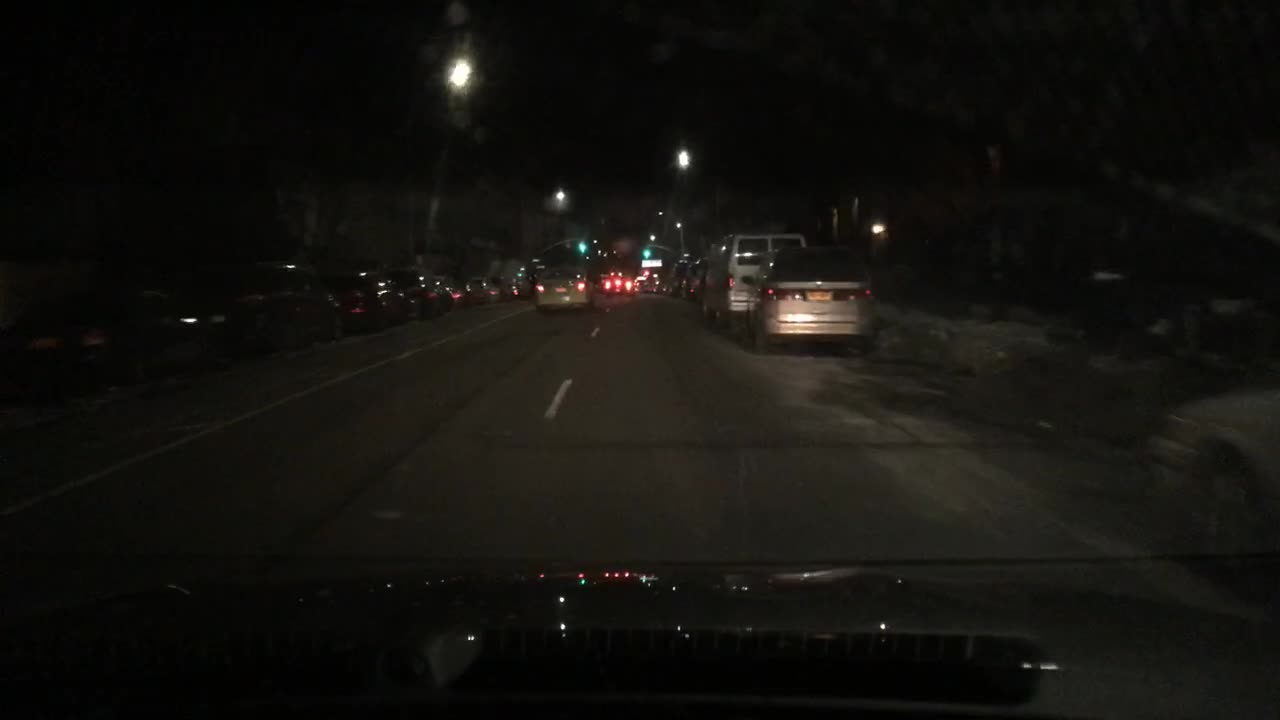car: (1142, 357, 1275, 577), (20, 276, 233, 395), (751, 244, 881, 347), (222, 261, 354, 350), (698, 231, 810, 323), (339, 266, 406, 330), (531, 264, 592, 317), (395, 266, 449, 320), (492, 256, 528, 300), (455, 275, 491, 307), (683, 256, 710, 293), (435, 276, 462, 310), (666, 258, 687, 300), (602, 271, 629, 293), (636, 278, 656, 288)
traffic light: (577, 236, 584, 256), (643, 242, 648, 259)
traffic sign: (639, 261, 661, 266)
